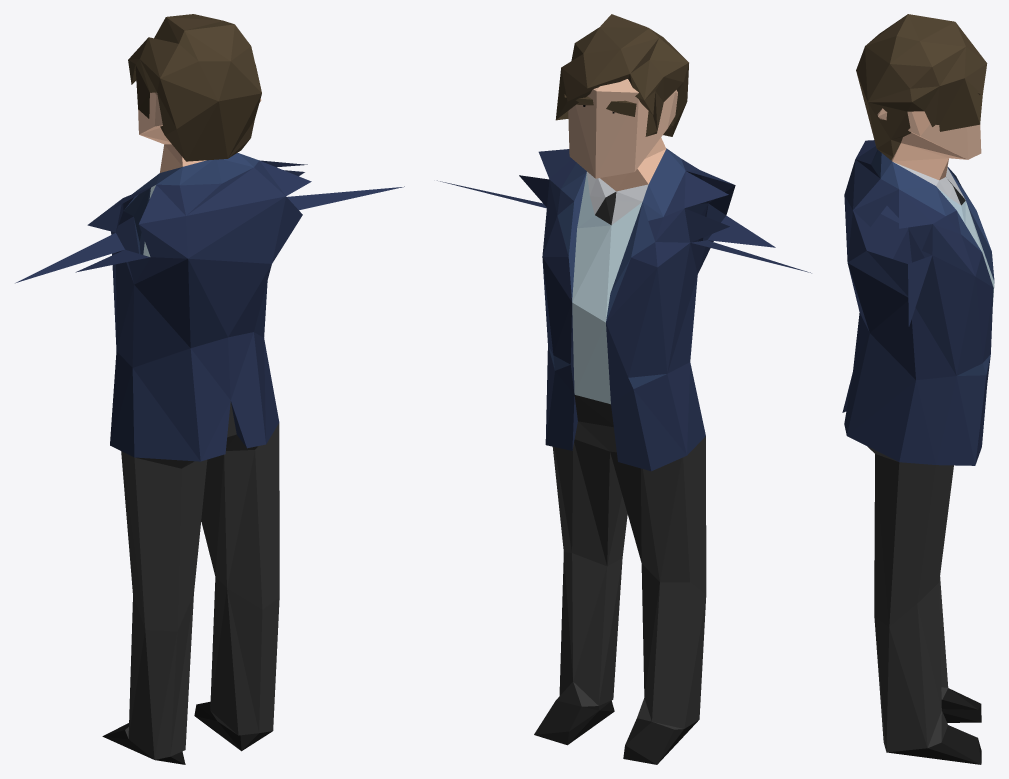
File: Body_Lo.obj
The picture shows the model from 3 angles, left to right: view 1: azimuth 30°, elevation 25°; view 2: azimuth 150°, elevation 25°; view 3: azimuth 270°, elevation 25°; orthographic projection. The views are drawn at different scales.
Bounding box in the file's own units: 1.04 × 1.83 × 0.3545.
Materials: 1 (1 with a texture image).
